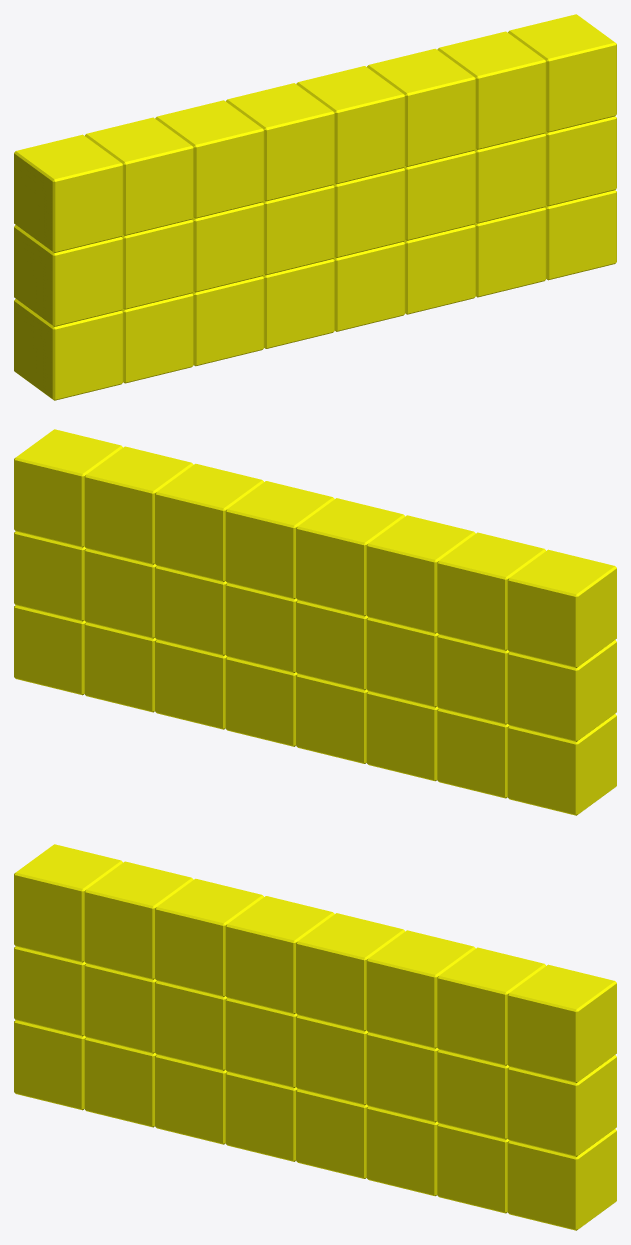
The picture shows the model from 3 angles, top to bottom: view 1: azimuth 30°, elevation 25°; view 2: azimuth 150°, elevation 25°; view 3: azimuth 330°, elevation 25°; orthographic projection.
Parts seen in each view (by area): view 1: break_wall, break_wall.008, break_wall.016, break_wall.002, break_wall.004, break_wall.007, break_wall.001, break_wall.003, break_wall.006, break_wall.005, break_wall.010, break_wall.018 (+12 smaller); view 2: break_wall, break_wall.008, break_wall.016, break_wall.002, break_wall.004, break_wall.007, break_wall.001, break_wall.003, break_wall.006, break_wall.005, break_wall.010, break_wall.018 (+12 smaller); view 3: break_wall.007, break_wall.015, break_wall.023, break_wall.005, break_wall, break_wall.003, break_wall.006, break_wall.001, break_wall.004, break_wall.002, break_wall.013, break_wall.021 (+12 smaller).
Boxes of the visible parts, x1,y1,x2,y2 form: break_wall: (14, 134, 123, 252); break_wall.008: (14, 225, 123, 326); break_wall.016: (14, 299, 123, 400); break_wall.002: (155, 100, 264, 218); break_wall.004: (296, 66, 405, 184); break_wall.007: (508, 14, 616, 132); break_wall.001: (85, 117, 193, 235); break_wall.003: (226, 83, 334, 201); break_wall.006: (437, 31, 546, 149); break_wall.005: (367, 48, 475, 166); break_wall.010: (192, 202, 264, 292); break_wall.018: (192, 276, 264, 366); break_wall: (507, 549, 616, 667); break_wall.008: (507, 640, 616, 741); break_wall.016: (507, 714, 616, 815); break_wall.002: (366, 515, 475, 633); break_wall.004: (225, 481, 334, 599); break_wall.007: (14, 429, 122, 547); break_wall.001: (437, 532, 545, 650); break_wall.003: (296, 498, 404, 616); break_wall.006: (84, 446, 193, 564); break_wall.005: (155, 463, 263, 581); break_wall.010: (366, 617, 438, 707); break_wall.018: (366, 691, 438, 781); break_wall.007: (507, 964, 616, 1082); break_wall.015: (507, 1055, 616, 1156); break_wall.023: (507, 1129, 616, 1230); break_wall.005: (366, 930, 475, 1048); break_wall: (14, 844, 122, 962); break_wall.003: (225, 896, 334, 1014); break_wall.006: (437, 947, 545, 1065); break_wall.001: (84, 861, 193, 979); break_wall.004: (296, 913, 404, 1031); break_wall.002: (155, 878, 263, 996); break_wall.013: (366, 1032, 438, 1122); break_wall.021: (366, 1106, 438, 1196).
Size of the model in its own units: 0.04 by 0.015 by 0.005.
Materials: 1 (1 with a texture image).
